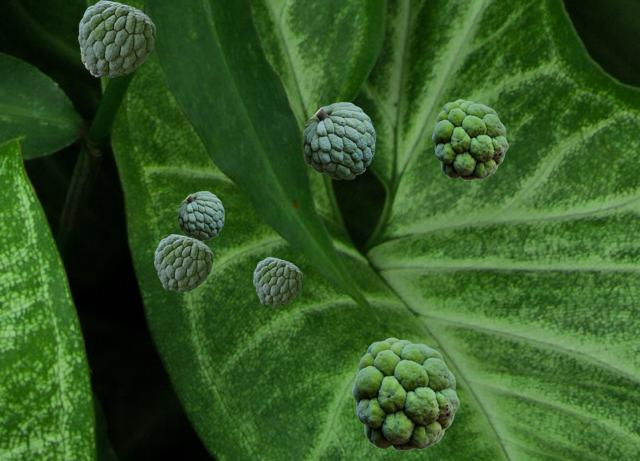atis: (352, 337, 458, 450), (432, 99, 507, 179), (78, 0, 154, 76), (303, 102, 374, 178), (154, 234, 212, 291), (253, 257, 301, 305), (178, 191, 223, 239), (80, 48, 105, 76)
